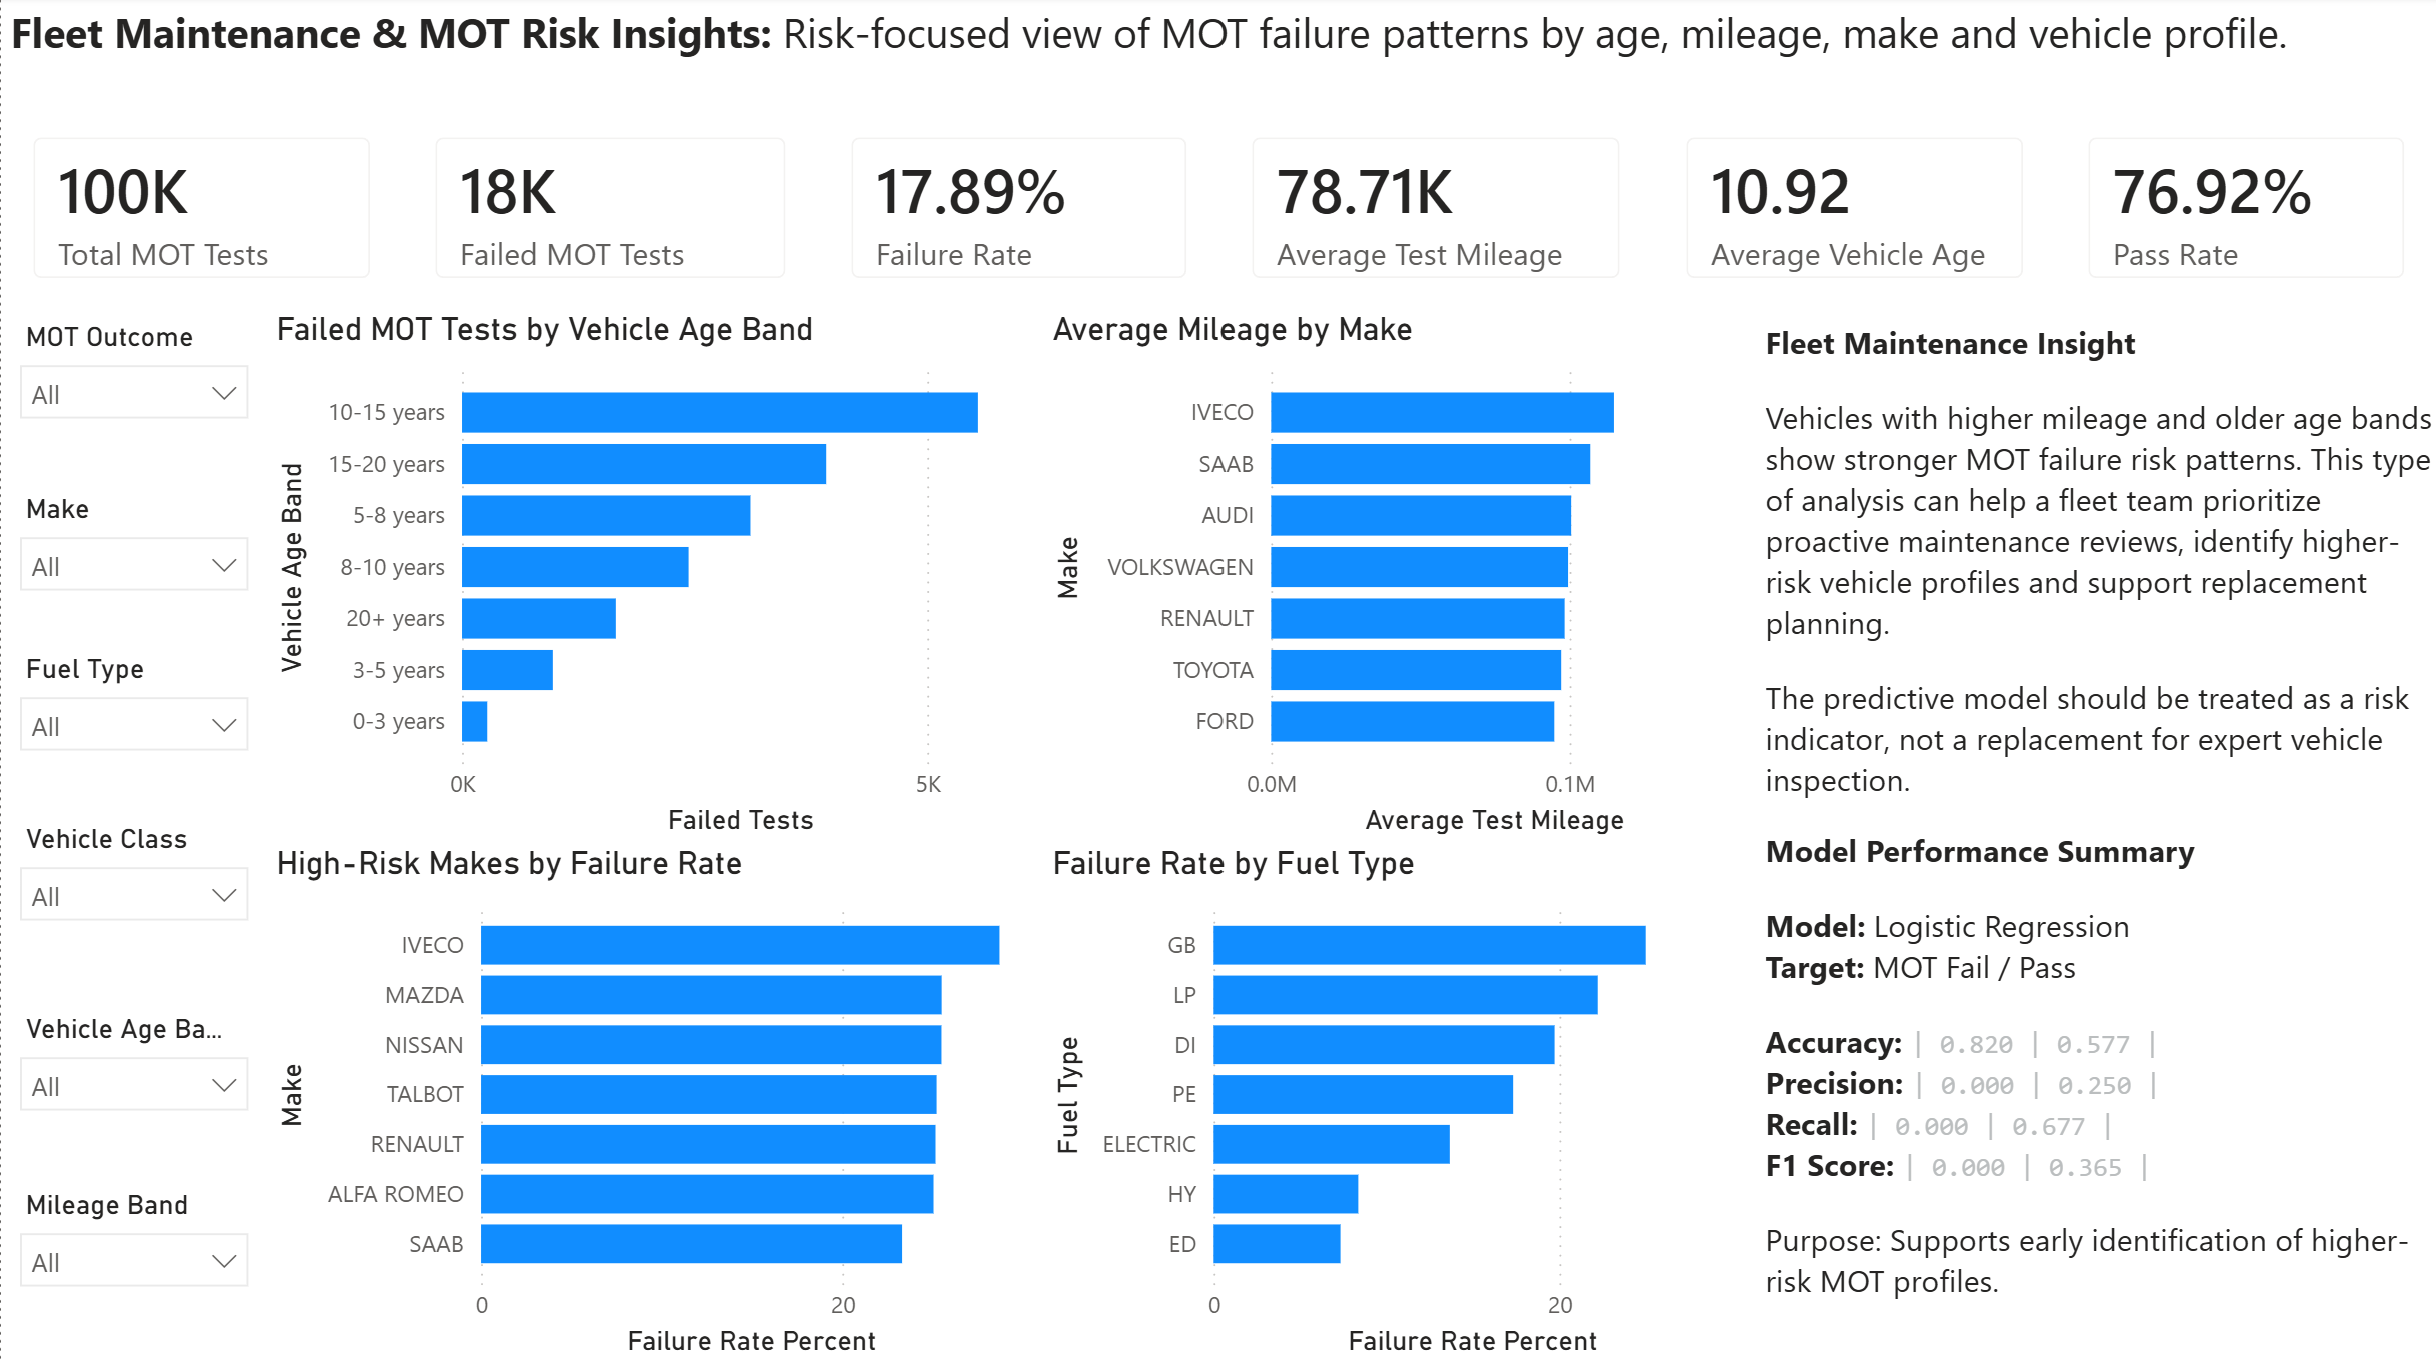

The dashboard page shown, as its layout file describes it:
{"tool":"powerbi","page":{"name":"Fleet Risk Insights","canvas":[1280,720],"ordinal":2},"visuals":[{"type":"textbox","box":[0,0,1280,57.7],"z":0},{"type":"cardVisual","fields":{"Data":["mot_record_level_dashboard.Total MOT Tests"]},"box":[0,57.7,211.5,108.5],"z":1000},{"type":"cardVisual","fields":{"Data":["mot_record_level_dashboard.Failed MOT Tests"]},"box":[211.5,57.7,218.4,108.5],"z":2000},{"type":"cardVisual","fields":{"Data":["mot_record_level_dashboard.Failure Rate"]},"box":[429.9,57.7,210.1,108.5],"z":3000},{"type":"cardVisual","fields":{"Data":["mot_record_level_dashboard.Average Test Mileage"]},"box":[640,57.7,228,108.5],"z":4000},{"type":"cardVisual","fields":{"Data":["mot_record_level_dashboard.Average Vehicle Age"]},"box":[868,57.7,211.5,108.5],"z":5000},{"type":"cardVisual","fields":{"Data":["mot_record_level_dashboard.Pass Rate"]},"box":[1079.5,57.7,200.5,108.5],"z":5001},{"type":"barChart","title":"Failed MOT Tests by Vehicle Age Band","fields":{"Category":["age_band_performance.vehicle_age_band"],"Y":["Sum(age_band_performance.failed_tests)"]},"box":[140.1,166.2,407.9,280.2],"z":5002},{"type":"barChart","title":"High-Risk Makes by Failure Rate","fields":{"Category":["make_performance.make"],"Y":["Avg(make_performance.failure_rate_percent)"]},"box":[140.1,446.4,409.3,273.3],"z":5003},{"type":"barChart","title":"Average Mileage by Make","fields":{"Category":["make_performance.make"],"Y":["Avg(make_performance.avg_test_mileage)"]},"box":[548,166.2,373.6,280.2],"z":5004},{"type":"barChart","title":"Failure Rate by Fuel Type","fields":{"Category":["fuel_type_performance.fuel_type"],"Y":["Avg(fuel_type_performance.failure_rate_percent)"]},"box":[548,446.4,373.6,273.3],"z":5005},{"type":"textbox","box":[921.5,166.2,361.2,266.4],"z":5006},{"type":"textbox","box":[921.5,432.6,358.5,287],"z":5007},{"type":"slicer","fields":{"Values":["mot_record_level_dashboard.mot_outcome"]},"box":[0,166.2,140.1,92],"z":5008},{"type":"slicer","fields":{"Values":["mot_record_level_dashboard.make"]},"box":[0,256.8,140.1,85.2],"z":5009},{"type":"slicer","fields":{"Values":["mot_record_level_dashboard.fuel_type"]},"box":[0,340.6,140.1,90.6],"z":5010},{"type":"slicer","fields":{"Values":["mot_record_level_dashboard.vehicle_class"]},"box":[0,429.9,140.1,101.6],"z":5011},{"type":"slicer","fields":{"Values":["mot_record_level_dashboard.vehicle_age_band"]},"box":[0,530.1,140.1,94.8],"z":5012},{"type":"slicer","fields":{"Values":["mot_record_level_dashboard.mileage_band"]},"box":[0,622.1,140.1,97.5],"z":5013}]}

Visuals, with their boxes in screenshot pixels (x1, y1, x2, y2), scaled from the page's 1280x720 canvas onto the 2436x1360 screenshot:
textbox: 0,0,2435,109
cardVisual - mot_record_level_dashboard.Total MOT Tests: 0,109,403,314
cardVisual - mot_record_level_dashboard.Failed MOT Tests: 403,109,818,314
cardVisual - mot_record_level_dashboard.Failure Rate: 818,109,1218,314
cardVisual - mot_record_level_dashboard.Average Test Mileage: 1218,109,1652,314
cardVisual - mot_record_level_dashboard.Average Vehicle Age: 1652,109,2054,314
cardVisual - mot_record_level_dashboard.Pass Rate: 2054,109,2435,314
"Failed MOT Tests by Vehicle Age Band" barChart: 267,314,1043,843
"High-Risk Makes by Failure Rate" barChart: 267,843,1046,1359
"Average Mileage by Make" barChart: 1043,314,1754,843
"Failure Rate by Fuel Type" barChart: 1043,843,1754,1359
textbox: 1754,314,2435,817
textbox: 1754,817,2435,1359
slicer - mot_record_level_dashboard.mot_outcome: 0,314,267,488
slicer - mot_record_level_dashboard.make: 0,485,267,646
slicer - mot_record_level_dashboard.fuel_type: 0,643,267,814
slicer - mot_record_level_dashboard.vehicle_class: 0,812,267,1004
slicer - mot_record_level_dashboard.vehicle_age_band: 0,1001,267,1180
slicer - mot_record_level_dashboard.mileage_band: 0,1175,267,1359
